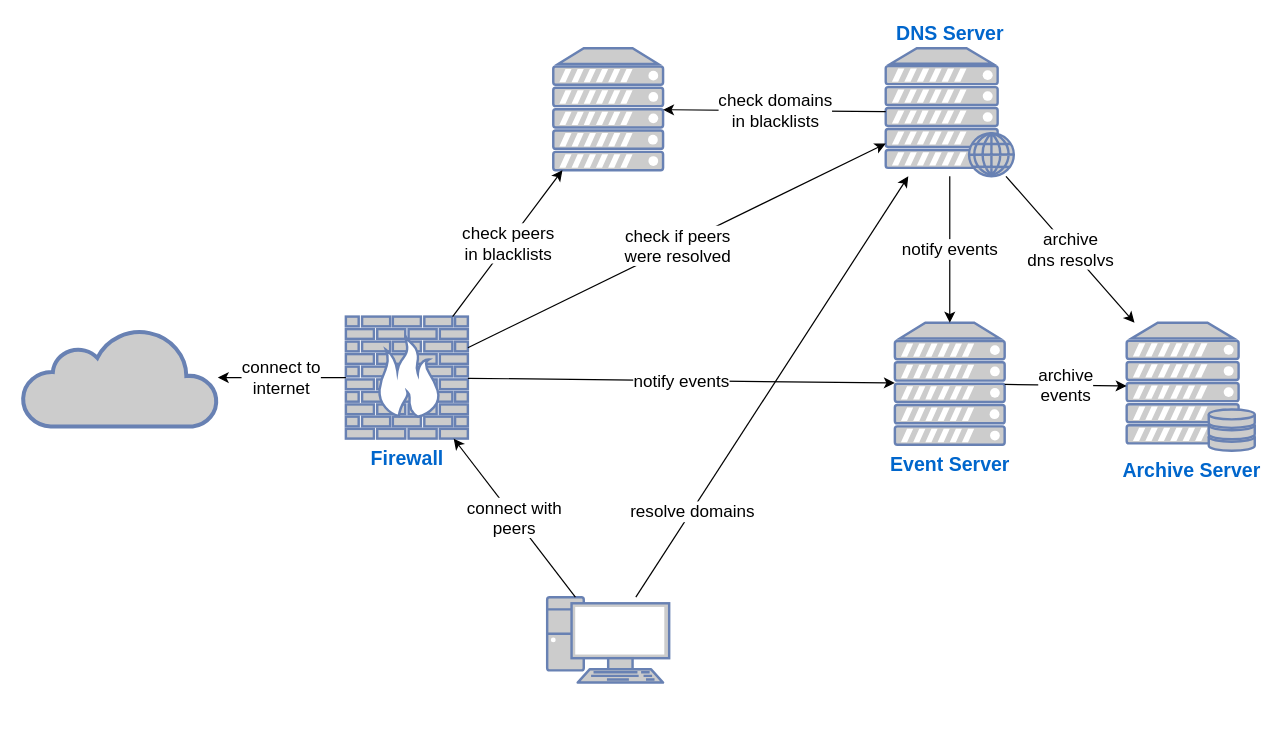
This 1280x734 diagram has some shape labels left out. The shapes that lost their labels are listed below. From the top down, each one's box as (x1, y1, x2, y2) in pixels, then its label:
(551, 46, 664, 171): XList Server
(545, 595, 670, 683): Workstation
